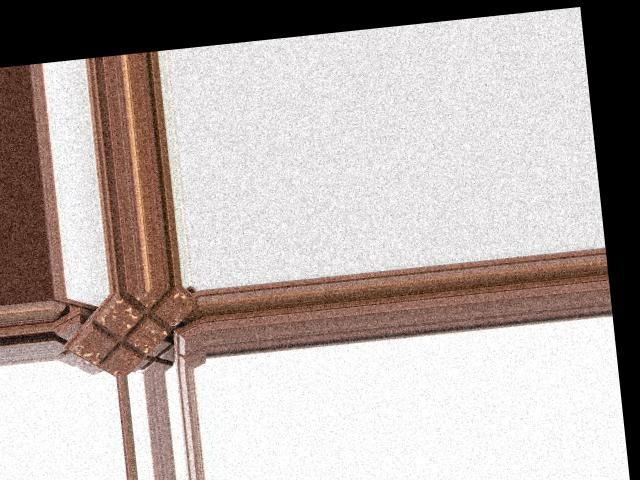chocolate: (68, 284, 202, 379)
